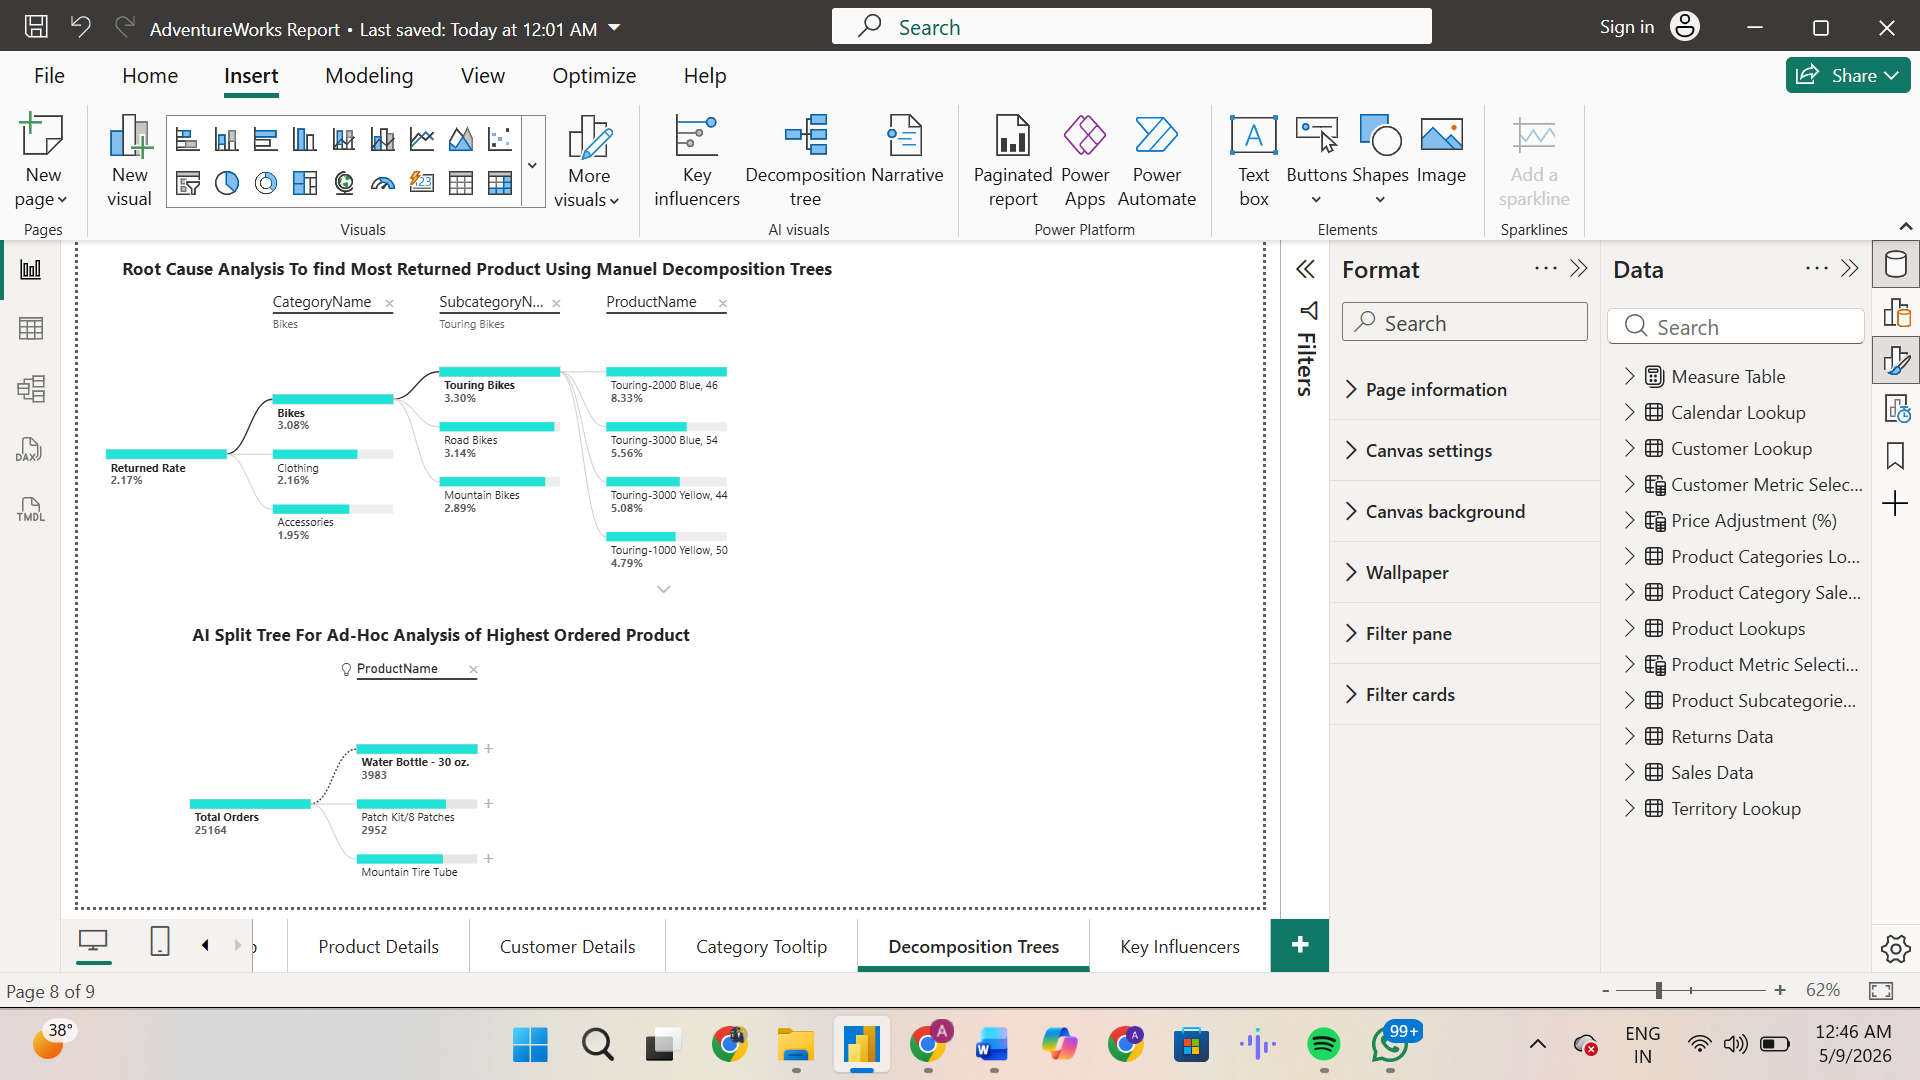

This screenshot's page, from the dashboard's own definition file:
{"tool":"powerbi","page":{"name":"Decomposition Trees","canvas":[1280,720],"ordinal":7},"visuals":[{"type":"decompositionTreeVisual","title":"Manuel Return Rate Tree For Root Cause Analysis","fields":{"Analyze":["Measure Table.Returned Rate"],"ExplainBy":["Product Categories Lookup.CategoryName","Product Subcategories Lookup.SubcategoryName","Product Lookups.ProductName"]},"box":[0,0,862.5,380],"z":0},{"type":"decompositionTreeVisual","title":"AI Split Tree For Ad-Hoc Analysis","fields":{"Analyze":["Measure Table.Total Orders"],"ExplainBy":["Product Lookups.ProductName","Product Categories Lookup.CategoryName","Product Subcategories Lookup.SubcategoryName","Territory Lookup.Territory Hierarchy.Country"]},"box":[90,412.5,602.5,282.5],"z":1000}]}

Visuals, with their boxes on the page's 1280x720 design canvas (x1, y1, x2, y2). These are canvas units, not pixel positions in the 1920x1080 screenshot, which may show the page scaled, cropped or inside an application window:
"Manuel Return Rate Tree For Root Cause Analysis" decompositionTreeVisual: x1=0 y1=0 x2=862 y2=380
"AI Split Tree For Ad-Hoc Analysis" decompositionTreeVisual: x1=90 y1=412 x2=692 y2=695
